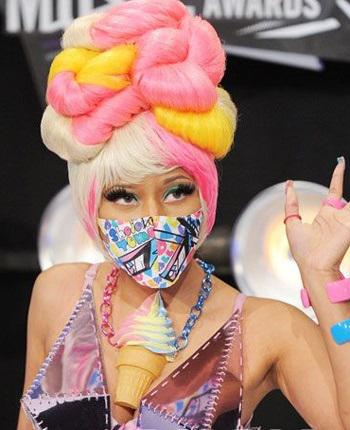OK: (99, 171, 207, 284)
